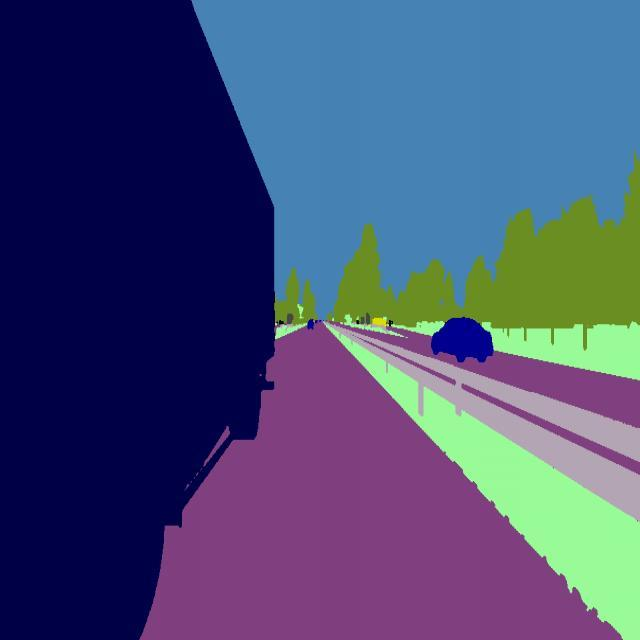safe: (428, 312, 494, 370), (304, 315, 316, 332)
unsafe: (0, 0, 279, 640)
